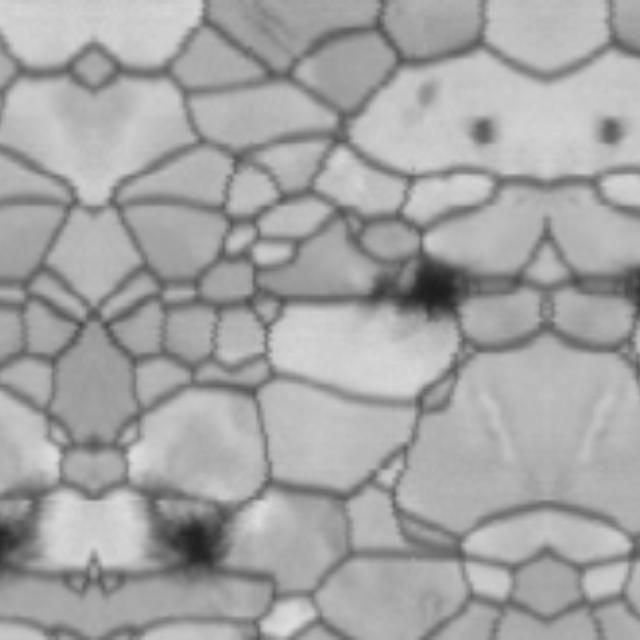good_void: (360, 251, 475, 327), (148, 505, 235, 586), (0, 507, 38, 581), (409, 73, 449, 112), (467, 115, 498, 152), (596, 115, 627, 152)
